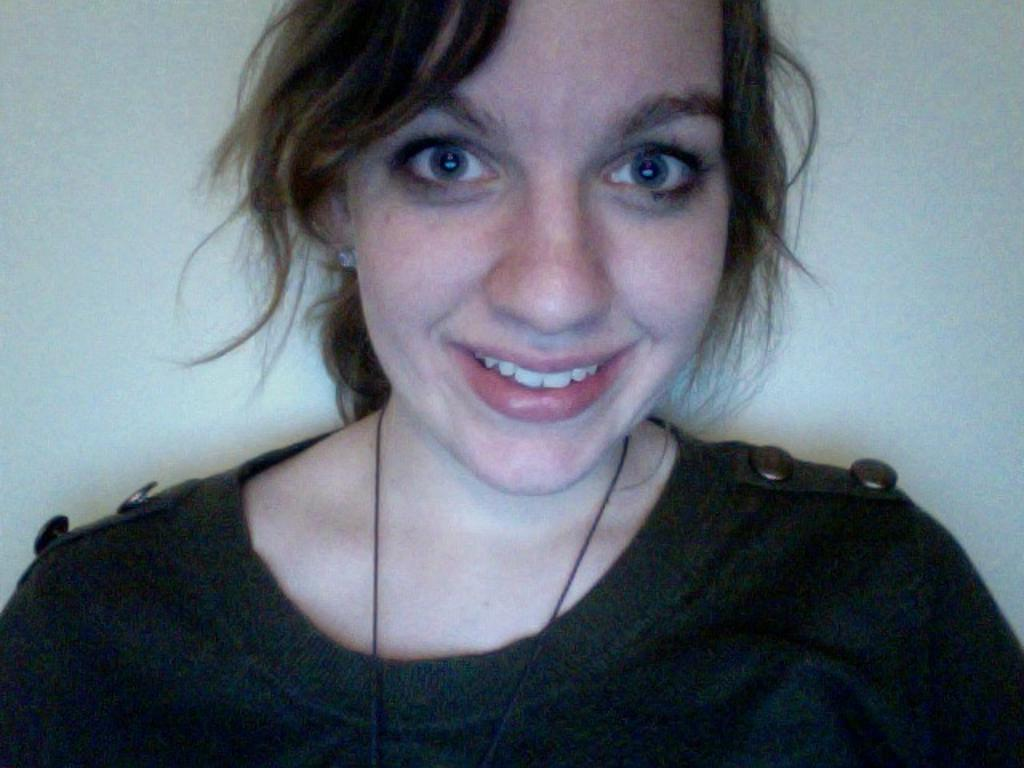face: (354, 8, 740, 496)
